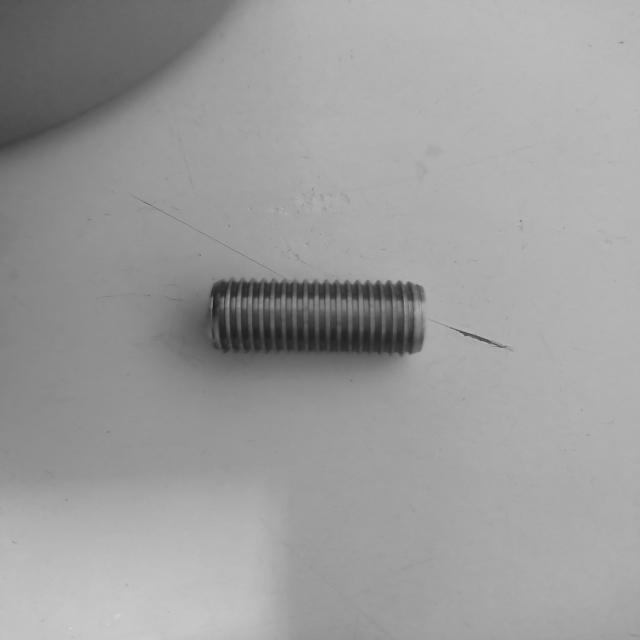Normal: (207, 273, 427, 359)
